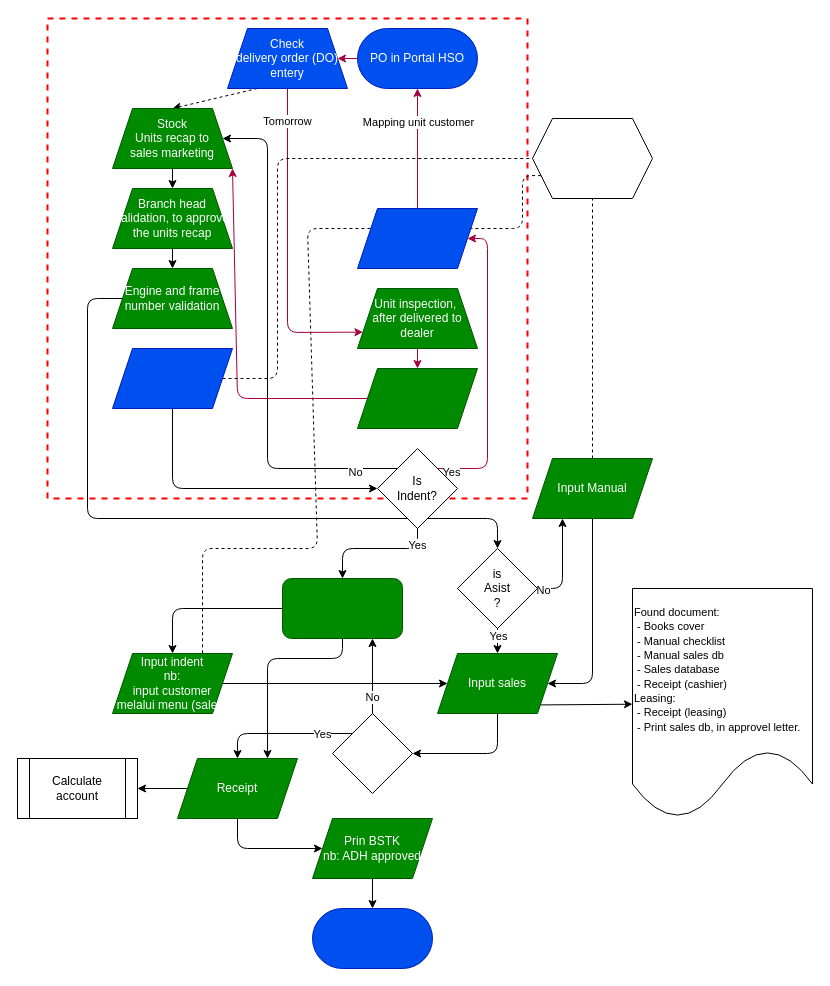
The diagram is 830 pixels wide and 986 high, and some of its shapes have lost their labels. The centre of each missing label's shape, as x and y in pixels:
- Customer - Unit: (x=592, y=158)
Cashier: (x=342, y=608)
Done Asist: (x=372, y=938)
Input sales/tx by sales marketing: (x=172, y=378)
Input stock: (x=417, y=398)
is leasing: (x=372, y=753)
Request/create sales invoice number: (x=417, y=238)
